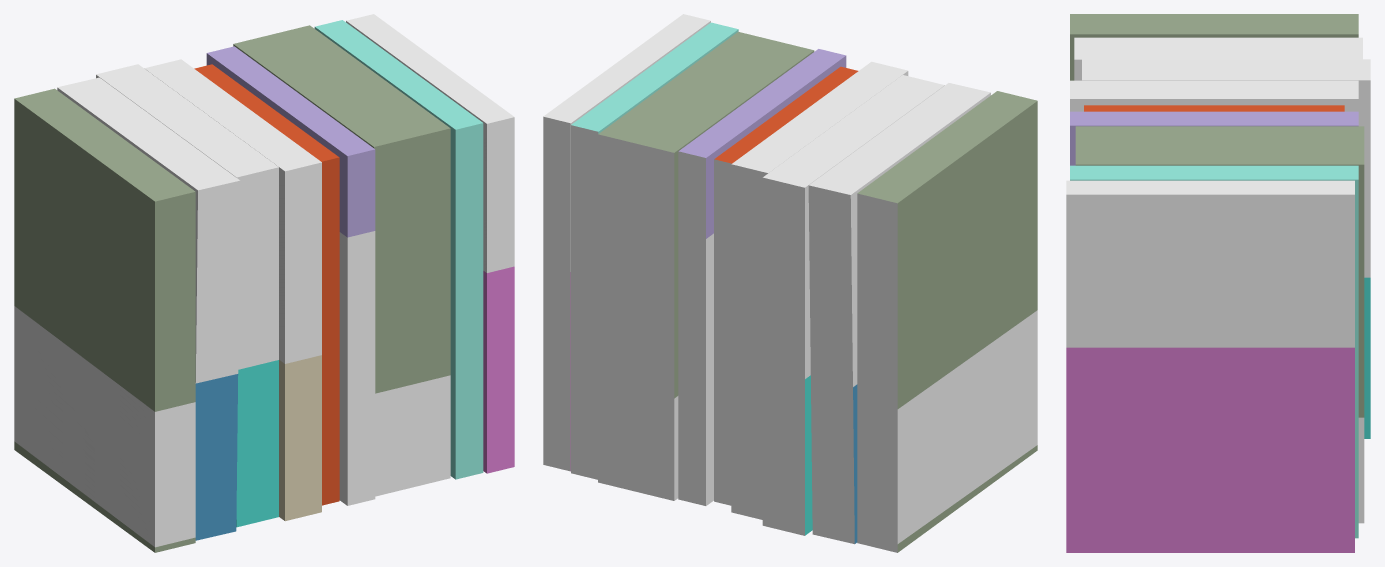
File: Book_A.glb
The picture shows the model from 3 angles, left to right: view 1: azimuth 30°, elevation 25°; view 2: azimuth 150°, elevation 25°; view 3: azimuth 270°, elevation 25°; orthographic projection. The views are drawn at different scales.
Parts seen in each view (by area): view 1: Cube.002, Cube.010, Cube.005, Cube.006, Cube.007, Cube.009, Cube.011, Cube.012, Cube.008; view 2: Cube.002, Cube.010, Cube.006, Cube.005, Cube.009, Cube.007, Cube.012, Cube.011, Cube.008; view 3: Cube.012, Cube.010, Cube.006, Cube.007, Cube.002, Cube.005, Cube.011, Cube.009, Cube.008.
Boxes of the visible parts, box(x1,y1,x2,y2) form: Cube.002: box(14, 88, 195, 552); Cube.010: box(233, 25, 450, 496); Cube.005: box(57, 77, 240, 540); Cube.006: box(96, 64, 278, 527); Cube.007: box(144, 59, 321, 521); Cube.009: box(206, 46, 375, 505); Cube.011: box(314, 20, 483, 479); Cube.012: box(346, 14, 514, 473); Cube.008: box(194, 64, 339, 505); Cube.002: box(857, 91, 1037, 552); Cube.010: box(598, 31, 814, 500); Cube.006: box(762, 75, 944, 535); Cube.005: box(808, 83, 990, 544); Cube.009: box(678, 49, 846, 505); Cube.007: box(731, 61, 908, 519); Cube.012: box(543, 14, 710, 471); Cube.011: box(571, 22, 738, 479); Cube.008: box(714, 66, 858, 505); Cube.012: box(1066, 180, 1354, 552); Cube.010: box(1075, 126, 1364, 523); Cube.006: box(1082, 59, 1370, 438); Cube.007: box(1070, 80, 1358, 111); Cube.002: box(1070, 14, 1358, 80); Cube.005: box(1074, 37, 1362, 80); Cube.011: box(1070, 165, 1358, 538); Cube.009: box(1070, 111, 1358, 165); Cube.008: box(1084, 105, 1344, 111).
Size of the model in its own units: 0.6326 by 0.5938 by 0.4543.
